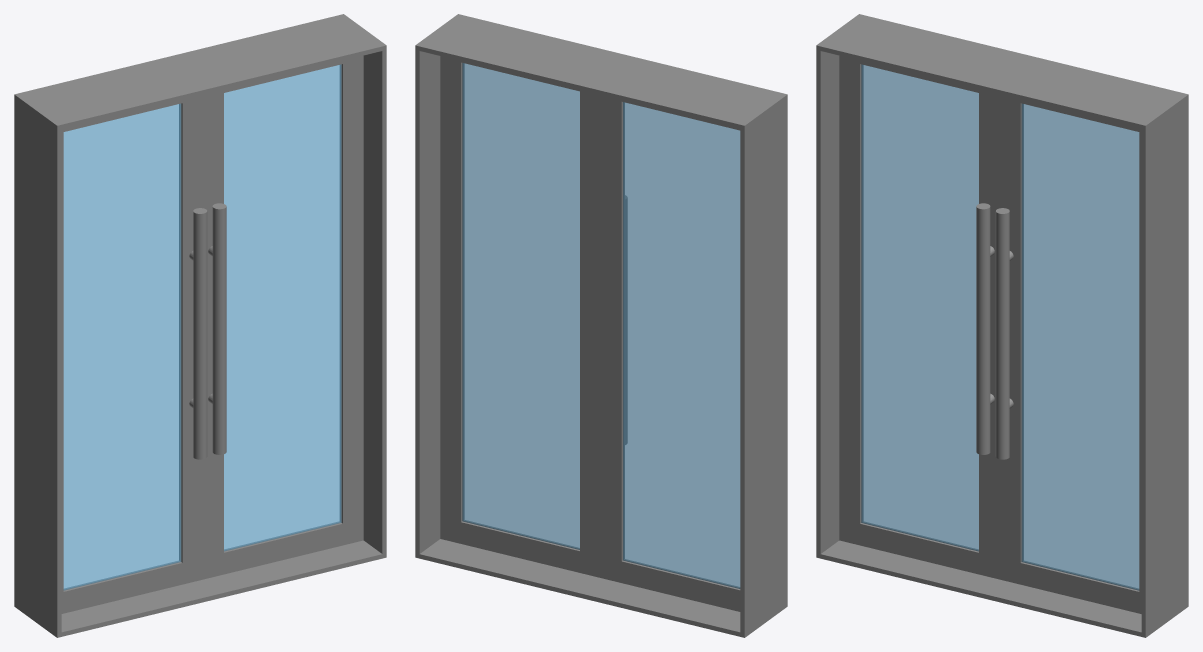
Rendered from NewDoor.fbx.
3 renders of one model, left to right at view 1: azimuth 30°, elevation 25°; view 2: azimuth 150°, elevation 25°; view 3: azimuth 330°, elevation 25°, orthographic.
Parts seen in each view (by area): view 1: Box003, 对象003, 对象004, Box005, Box004, Cylinder004, Cylinder001; view 2: Box003, 对象004, 对象003, Box005, Box004, Cylinder001; view 3: Box003, 对象004, 对象003, Box004, Box005, Cylinder004, Cylinder001.
Boxes of the visible parts, <box> form: Box003: <box>14,14,386,637</box>; 对象003: <box>63,103,180,590</box>; 对象004: <box>224,64,341,551</box>; Box005: <box>203,55,363,579</box>; Box004: <box>61,95,203,613</box>; Cylinder004: <box>212,203,226,454</box>; Cylinder001: <box>193,208,207,459</box>; Box003: <box>415,14,787,637</box>; 对象004: <box>462,63,579,549</box>; 对象003: <box>623,102,740,588</box>; Box005: <box>440,56,600,577</box>; Box004: <box>600,95,740,611</box>; Cylinder001: <box>625,195,627,444</box>; Box003: <box>816,14,1188,637</box>; 对象004: <box>1022,103,1139,590</box>; 对象003: <box>861,64,978,551</box>; Box004: <box>839,55,999,579</box>; Box005: <box>999,95,1141,613</box>; Cylinder004: <box>995,208,1009,459</box>; Cylinder001: <box>976,203,990,454</box>.
Bounding box in the file's own units: 1684 × 2501 × 380.
